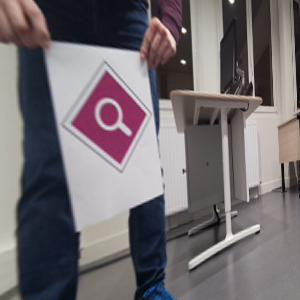search: (61, 58, 153, 174)
